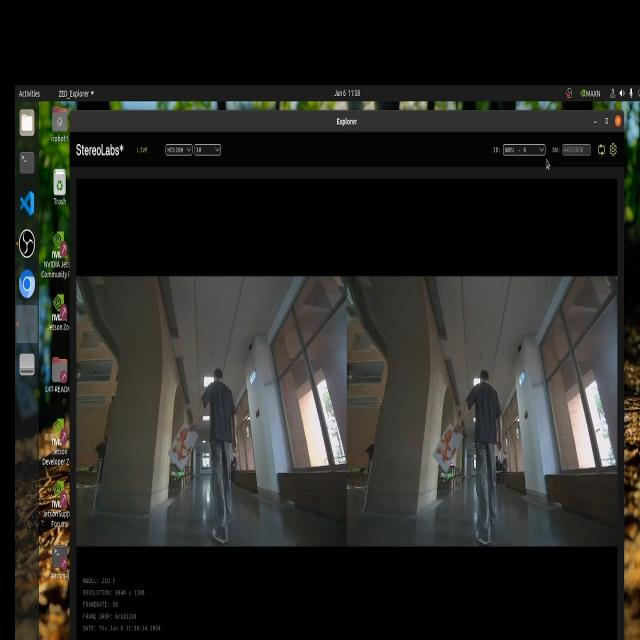red: (171, 421, 198, 465), (436, 426, 458, 469)
